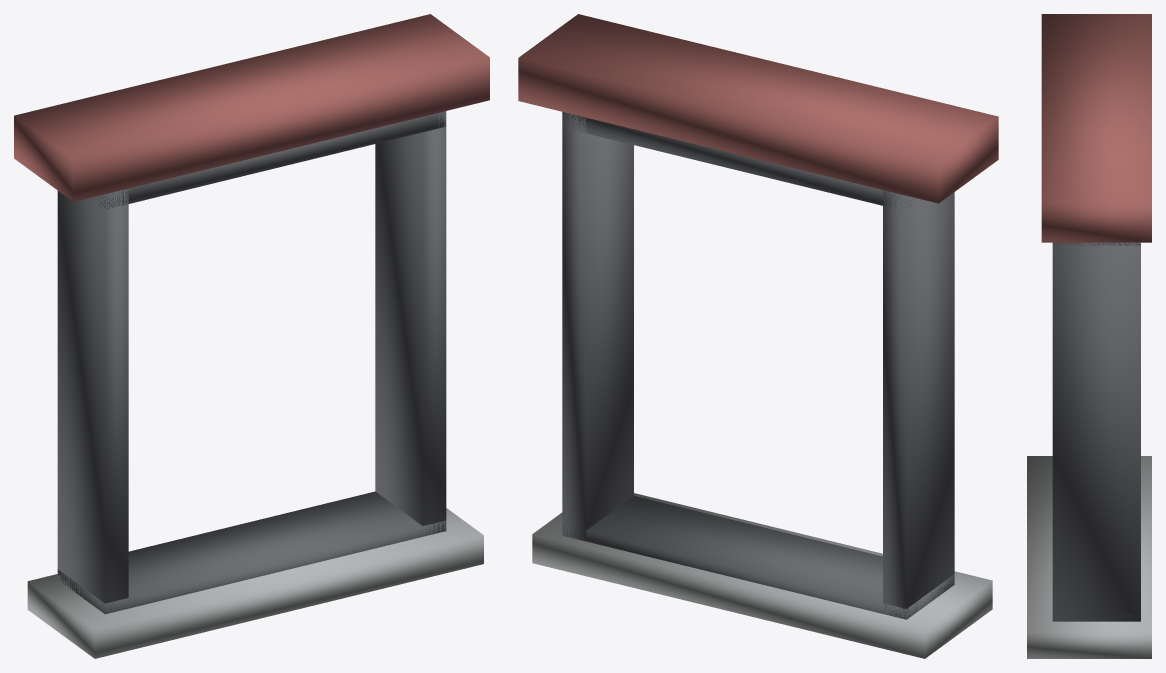
The model's file is egress_window_brick_w86_h110_s72_d24.glb.
The picture shows the model from 3 angles, left to right: view 1: azimuth 30°, elevation 25°; view 2: azimuth 150°, elevation 25°; view 3: azimuth 270°, elevation 25°; orthographic projection. The views are drawn at different scales.
Parts seen in each view (by area): view 1: world; view 2: world; view 3: world.
Boxes of the visible parts, x1,y1,x2,y2 form: world: (14,14,489,658); world: (518,14,998,658); world: (1027,14,1151,658).
Size of the model in its own units: 1.22 by 1.39 by 0.34.
